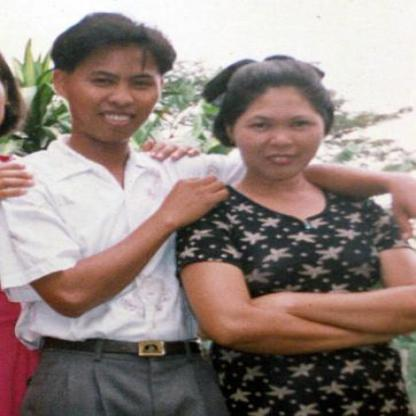face: (70, 22, 163, 145), (235, 64, 326, 182)
